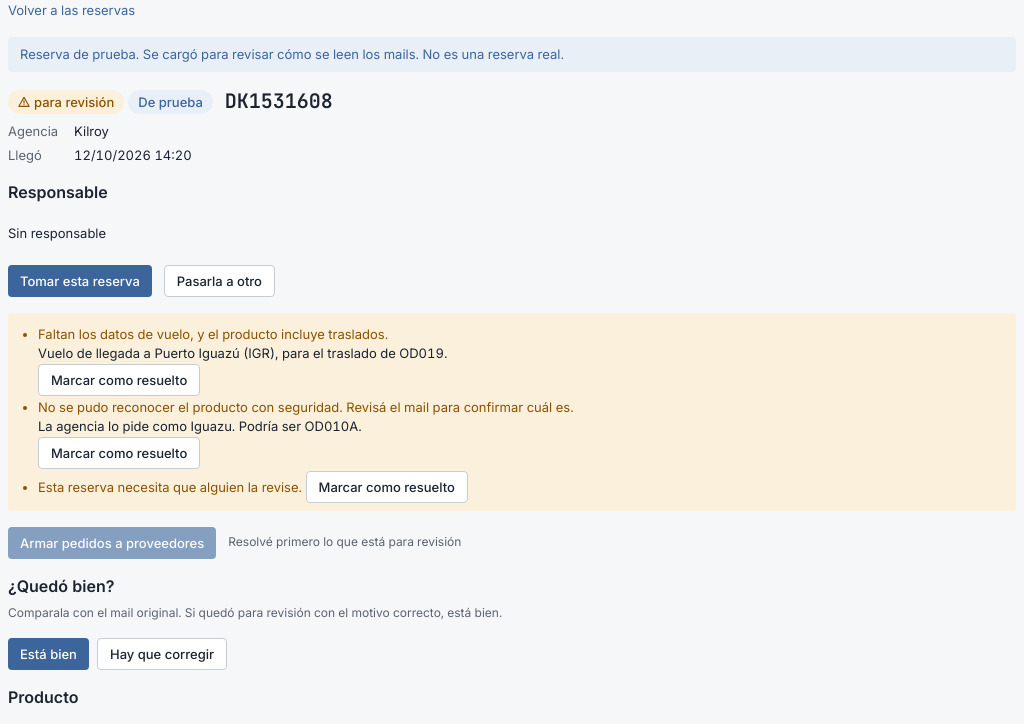
detalle: la marca del owner (fila 13) › 'Hay que corregir': pide qué está mal, con una nota, y lo guarda
Step 1. Click the button "Hay que corregir" → (162, 654), box [97,638,227,670]
(page scrolled)
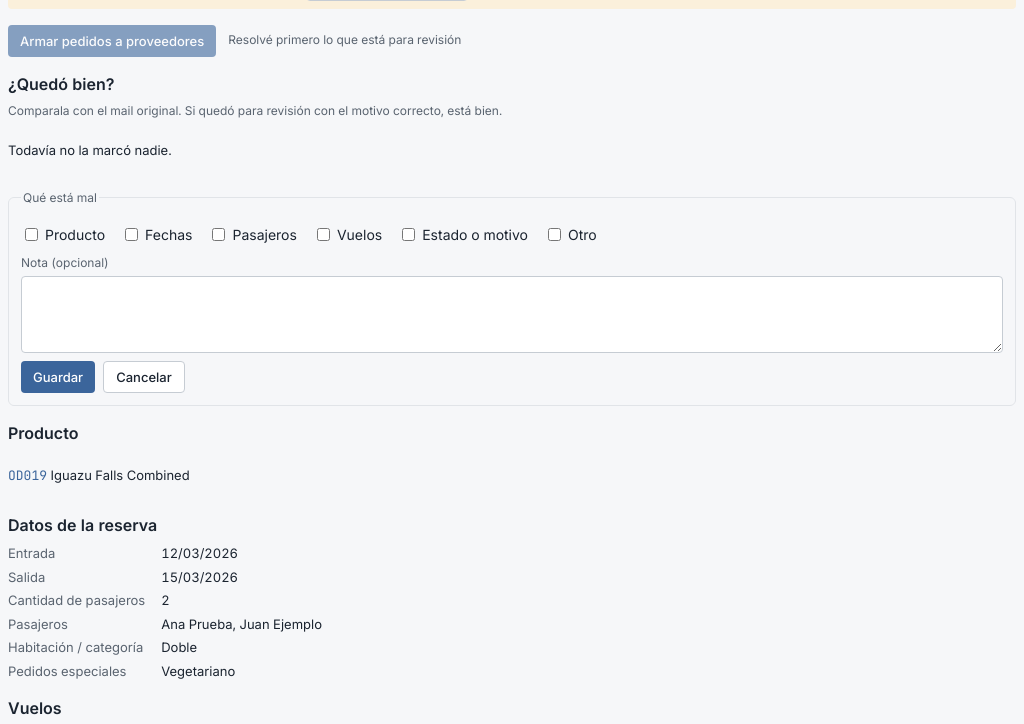
Step 2. Click the button "Guardar" → (58, 377), box [21,361,95,393]
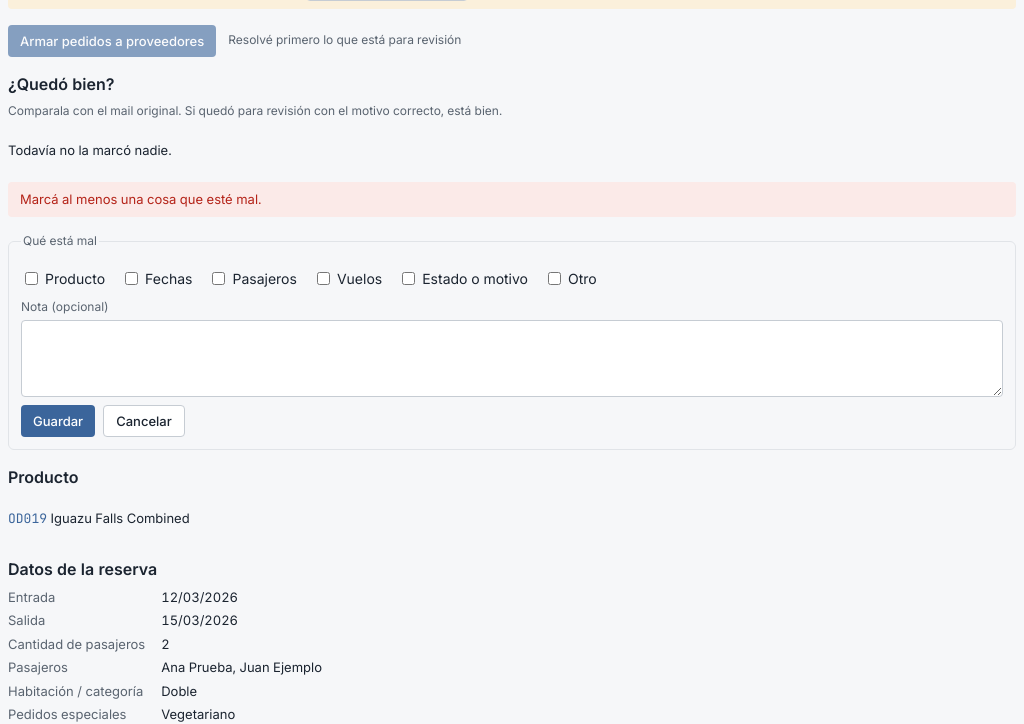
Check: the text "Marcá al menos una cosa que esté mal." is shown, box [8,182,1016,217]
Step 3. Click the checkbox labelled "Producto" → (32, 278), box [25,272,38,285]
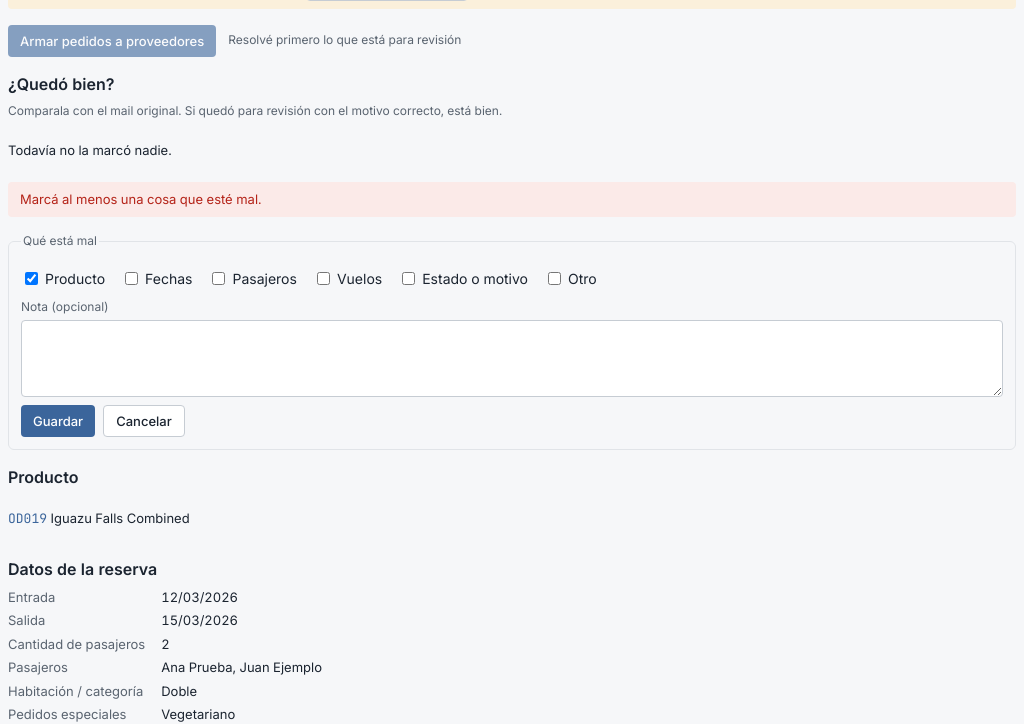
Step 4. Click the checkbox labelled "Vuelos" → (323, 278), box [317,272,330,285]
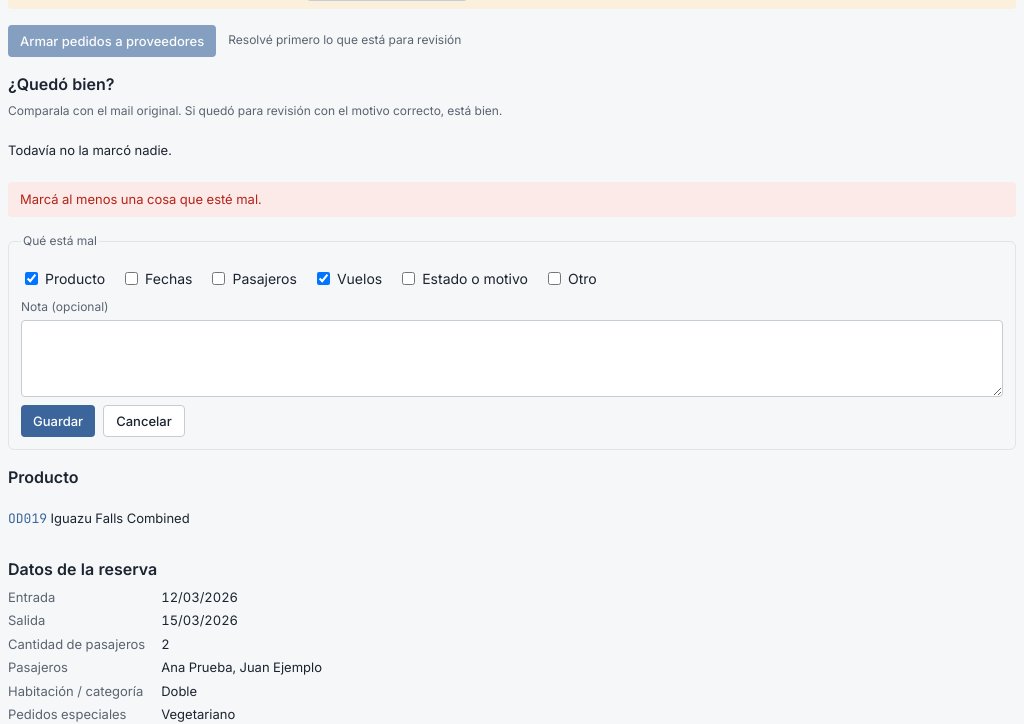
Step 5. Type "Era AR09" into the text box labelled "Nota (opcional)" → (512, 358), box [21,320,1003,397]
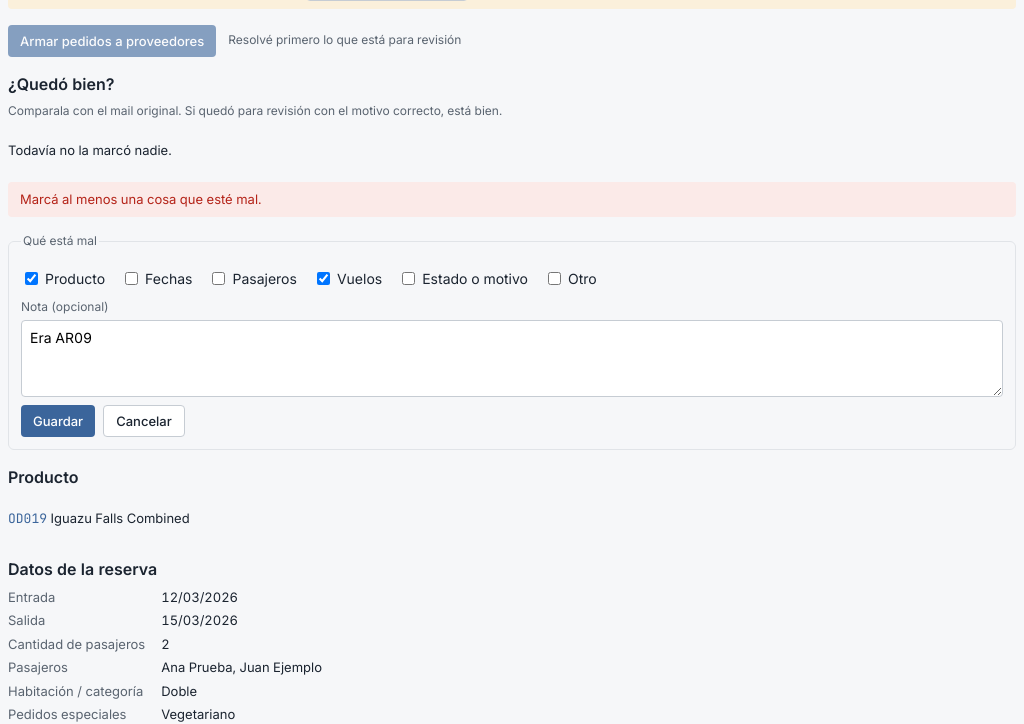
Step 6. Click the button "Guardar" → (58, 421), box [21,405,95,437]
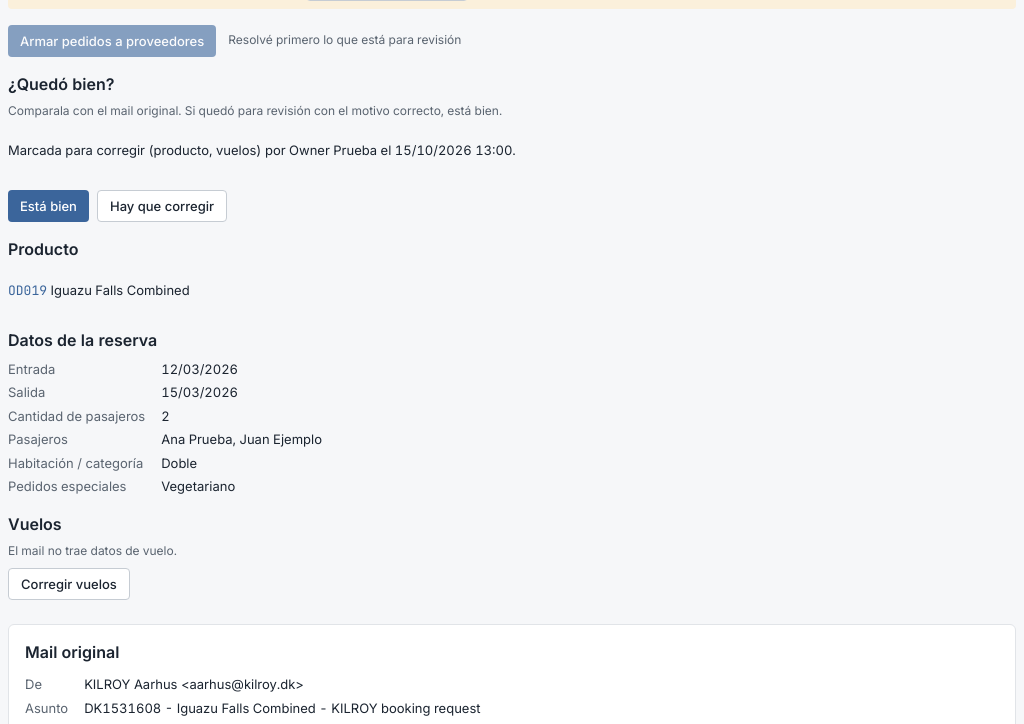
Check: the text "Marcada para corregir (producto, vuelos) por Owner Prueba el " is shown, box [8,142,516,158]
